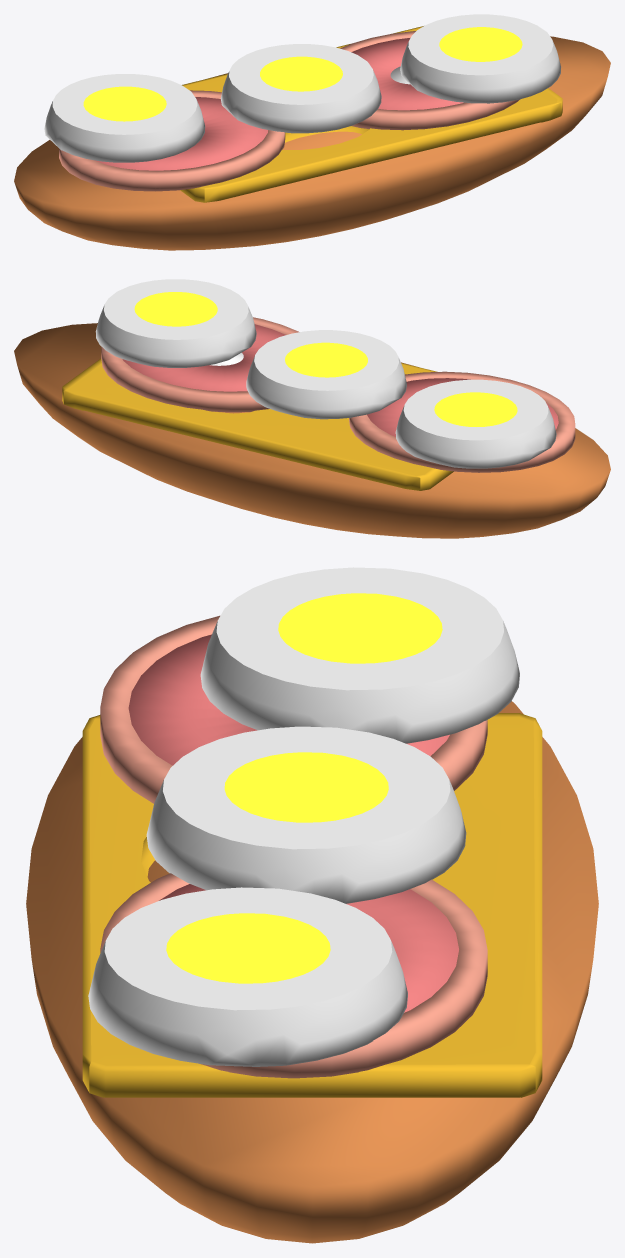
The model's file is kanapka_z_jajkiem.gltf.
The picture shows the model from 3 angles, top to bottom: view 1: azimuth 30°, elevation 25°; view 2: azimuth 150°, elevation 25°; view 3: azimuth 270°, elevation 25°; orthographic projection. The views are drawn at different scales.
Parts seen in each view (by area): view 1: Sphere, Sphere.001, Sphere.005, Sphere.002, Cube.002, Sphere.004, Sphere.003; view 2: Sphere, Cube.002, Sphere.002, Sphere.005, Sphere.001, Sphere.003, Sphere.004; view 3: Sphere, Cube.002, Sphere.001, Sphere.005, Sphere.002, Sphere.003, Sphere.004.
Boxes of the visible parts, x1=… form: Sphere: x1=14, y1=36, x2=610, y2=250; Sphere.001: x1=400, y1=14, x2=561, y2=103; Sphere.005: x1=220, y1=44, x2=381, y2=133; Sphere.002: x1=44, y1=74, x2=205, y2=162; Cube.002: x1=180, y1=26, x2=562, y2=202; Sphere.004: x1=59, y1=90, x2=285, y2=191; Sphere.003: x1=340, y1=31, x2=519, y2=130; Sphere: x1=14, y1=323, x2=610, y2=538; Cube.002: x1=62, y1=358, x2=453, y2=490; Sphere.002: x1=395, y1=379, x2=556, y2=468; Sphere.005: x1=246, y1=330, x2=406, y2=419; Sphere.001: x1=95, y1=279, x2=256, y2=367; Sphere.003: x1=101, y1=317, x2=299, y2=412; Sphere.004: x1=349, y1=371, x2=575, y2=472; Sphere: x1=26, y1=701, x2=598, y2=1243; Cube.002: x1=82, y1=713, x2=542, y2=1097; Sphere.001: x1=88, y1=887, x2=407, y2=1066; Sphere.005: x1=146, y1=726, x2=466, y2=903; Sphere.002: x1=200, y1=567, x2=519, y2=743; Sphere.003: x1=100, y1=873, x2=487, y2=1078; Sphere.004: x1=100, y1=615, x2=487, y2=803.
Size of the model in its own units: 0.2883 by 0.0693 by 0.1233.
Materials: 6 (6 with a texture image).
